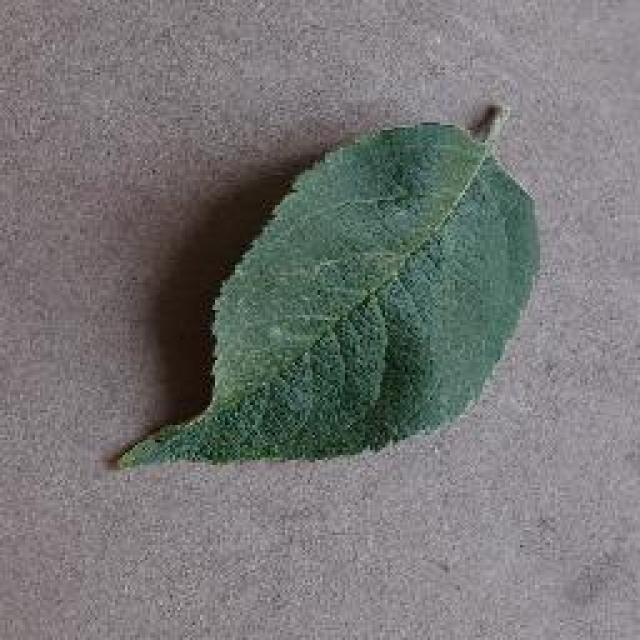apple healthy: (112, 100, 542, 472)
